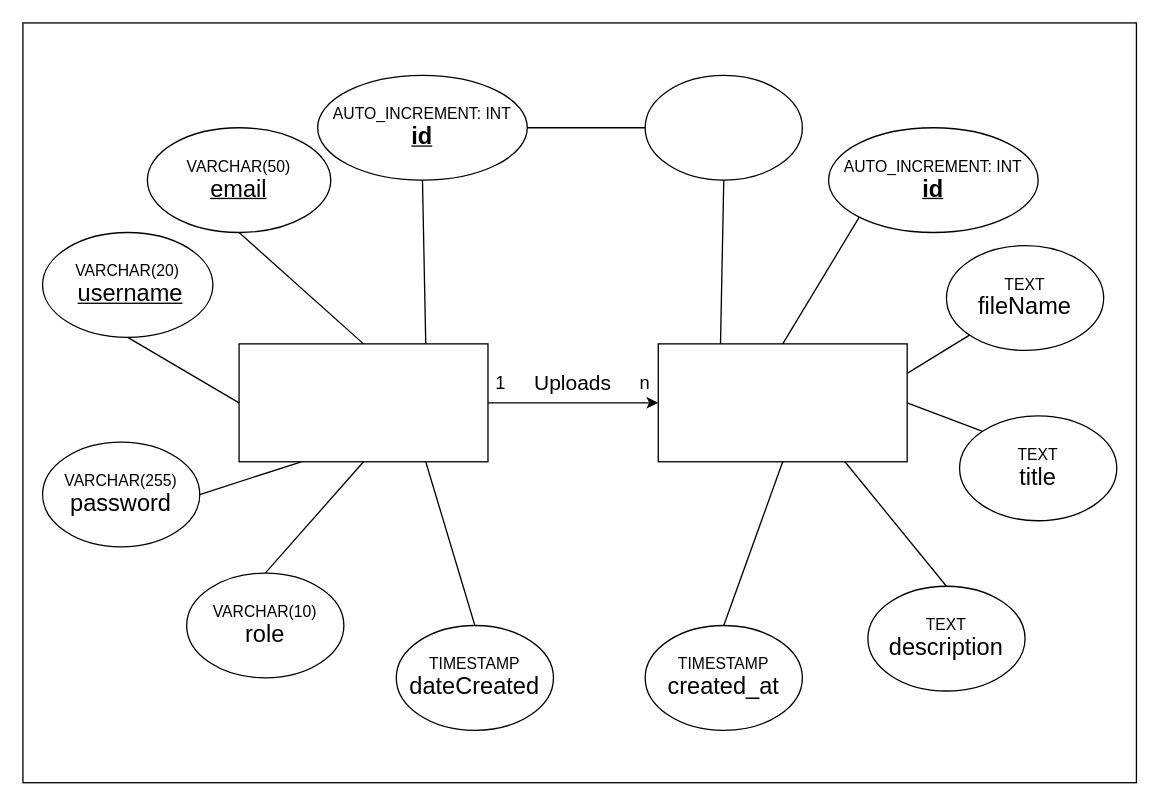
Image size: 1159x806. Some labels were removed from this diagram. Each missing label, with the centre of its shape:
"FOREIGN KEY: INT creator_id" belongs at [723,127].
"User" belongs at [363,402].
"Video" belongs at [782,402].
